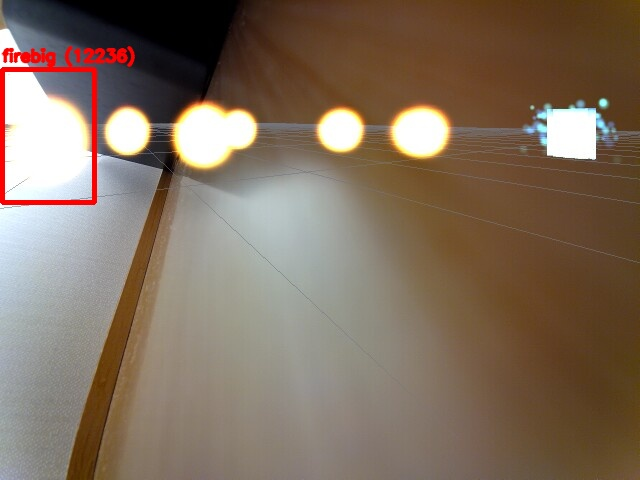firebig: (2, 69, 94, 202)
